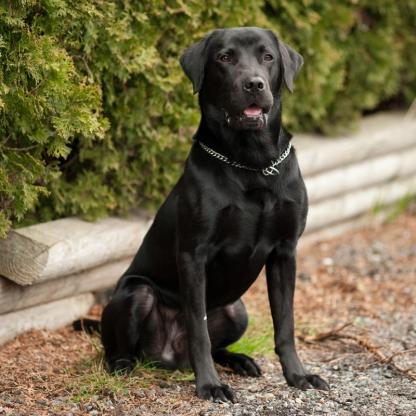Labarador Retriever: (75, 25, 329, 393)
